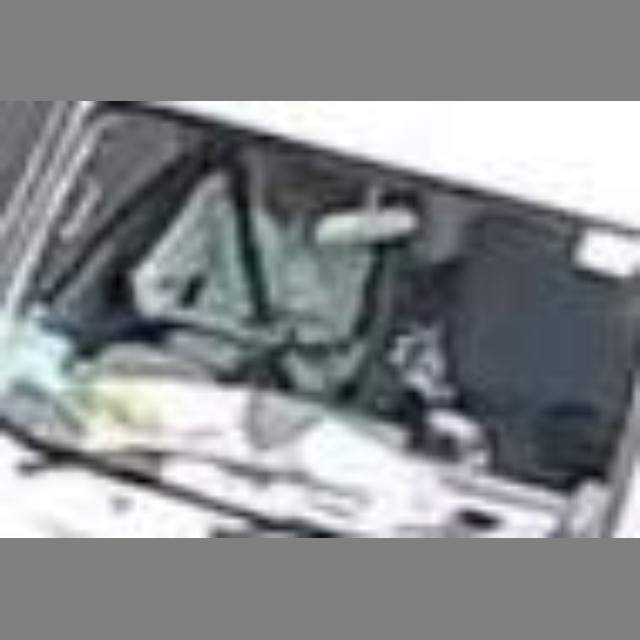pakai: (148, 155, 344, 350)
